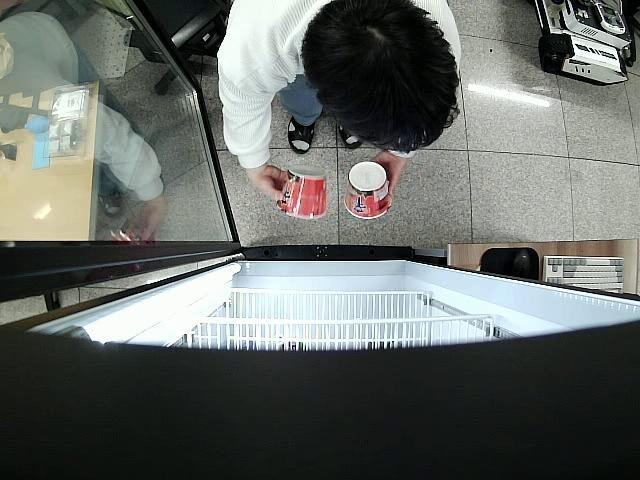01_ShinRamen_L: (278, 166, 327, 221), (344, 163, 392, 219)
